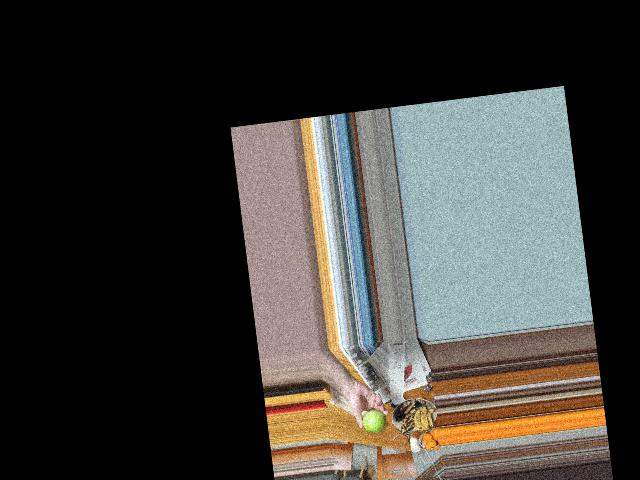apple: (360, 405, 389, 435)
